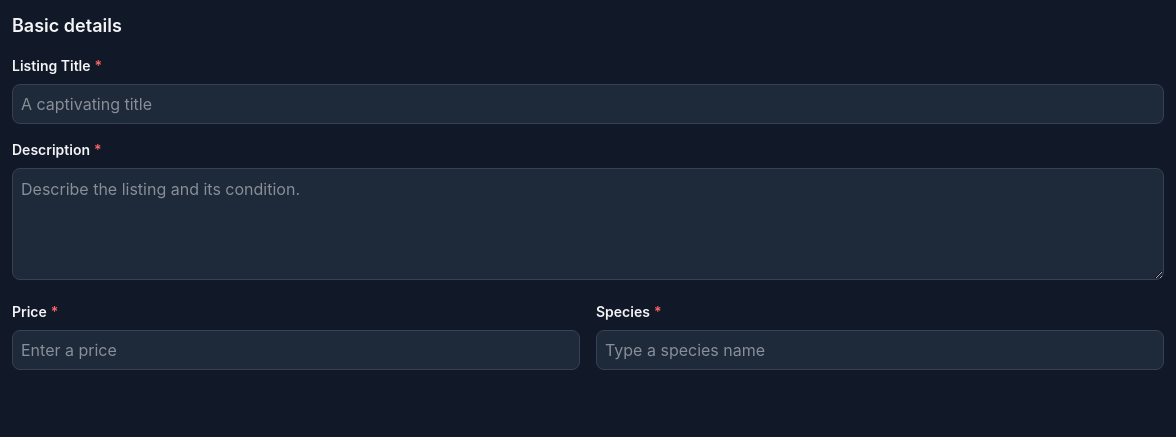
Test: BasicDetailsSection species picker › keeps a typed name for review when that option is chosen, and Escape closes the menu
Type "Frilled Lizard" into the dropdown labelled "Species".
click(880, 350); type("Frilled Lizard")  # box [596,330,1164,370]
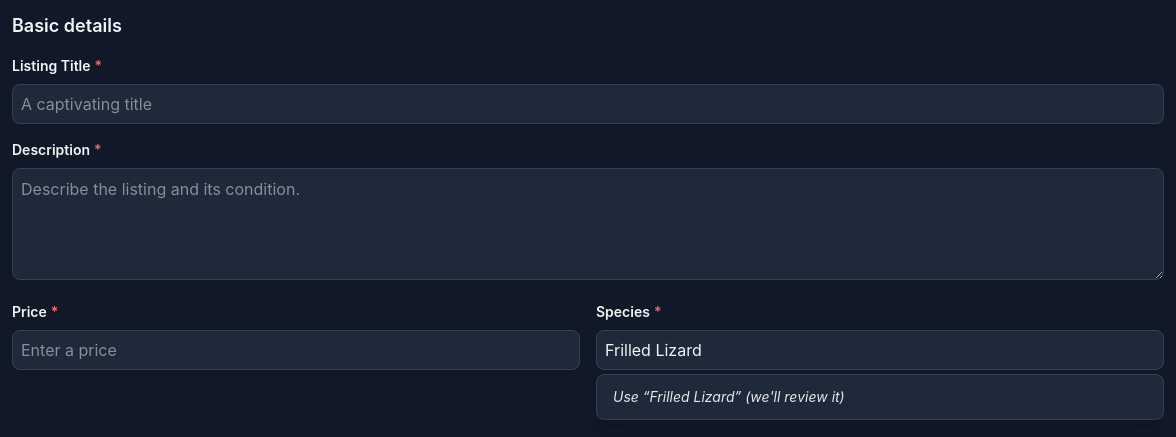
Press ArrowDown in the dropdown labelled "Species", box [596,330,1164,370]
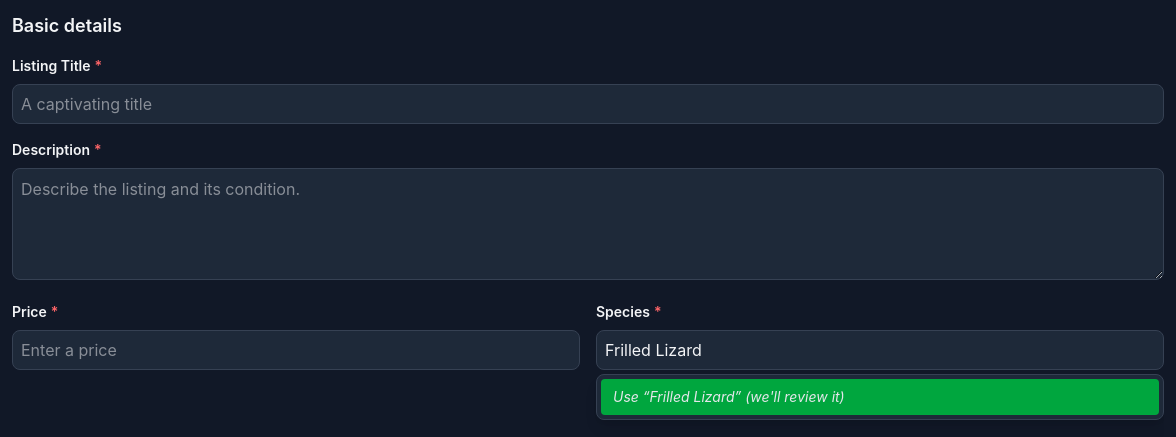
Expected: the option shows "Use “Frilled Lizard”", [601,379,1159,415]
Press Enter in the dropdown labelled "Species", box [596,330,1164,370]
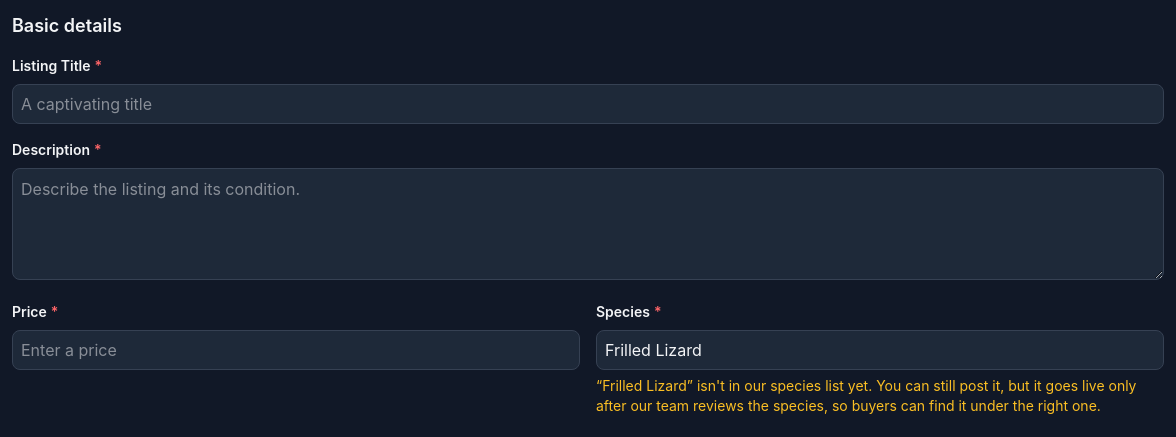
Expected: the text "isn't in our species list yet" is shown, [596,377,1136,414]
Expected: the list is gone
Press ArrowDown in the dropdown labelled "Species", box [596,330,1164,370]
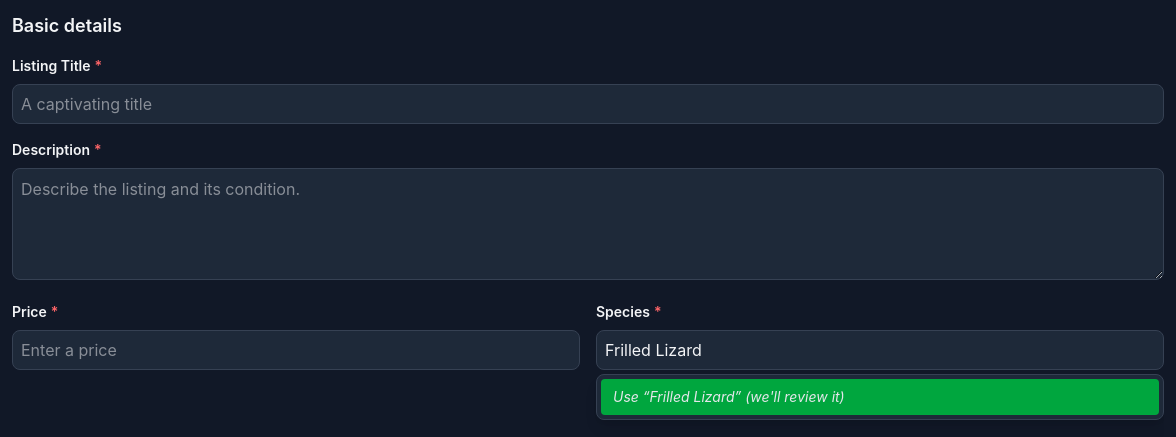
Expected: the list is shown, [596,374,1164,420]
Press Escape in the dropdown labelled "Species", box [596,330,1164,370]
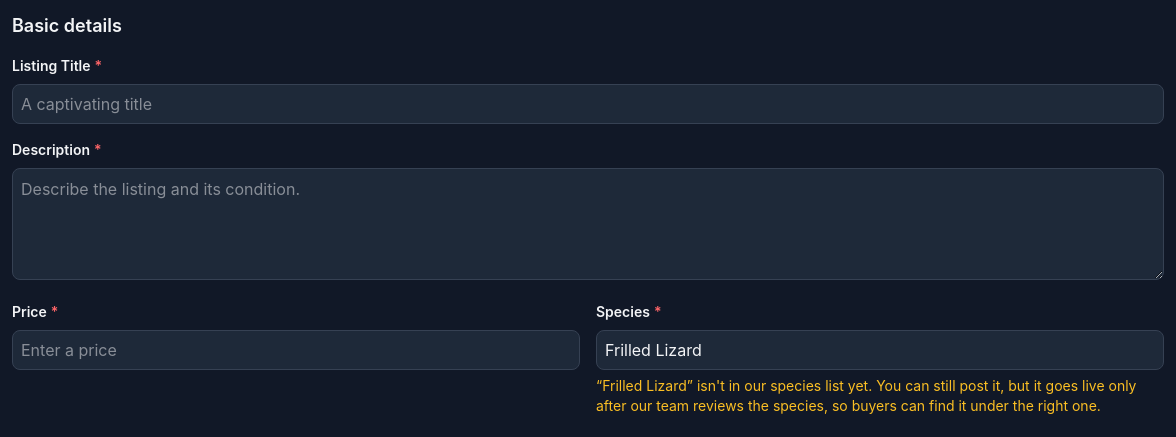
Expected: the list is gone
